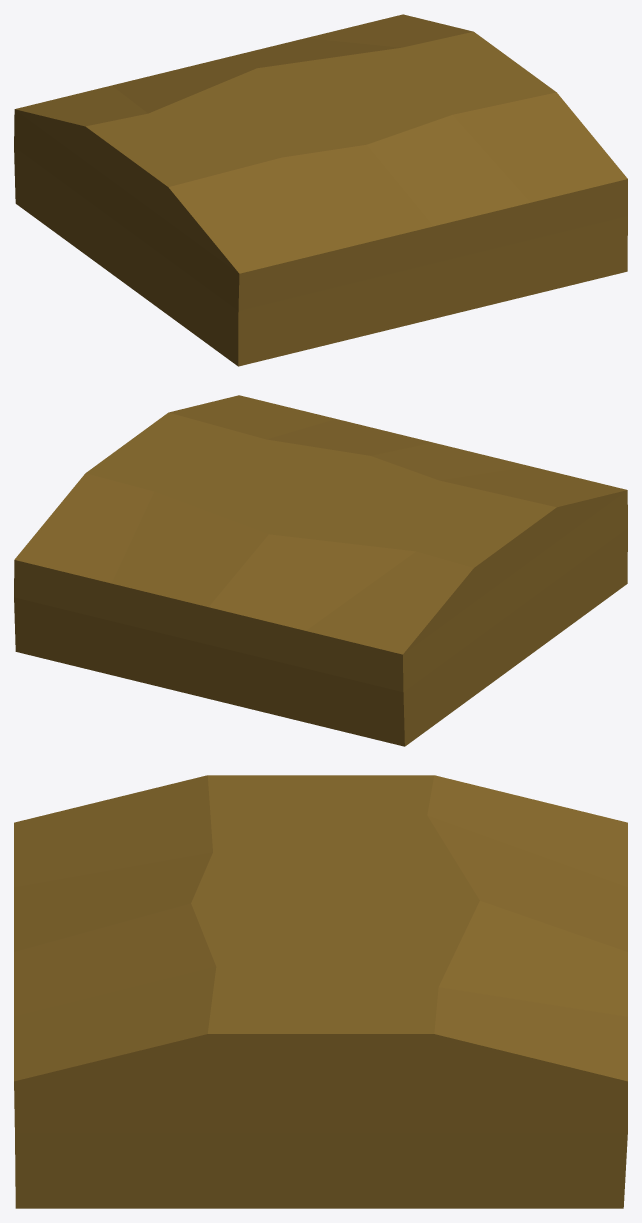
File: buried_bed3.fbx
3 renders of one model, top to bottom at view 1: azimuth 30°, elevation 25°; view 2: azimuth 150°, elevation 25°; view 3: azimuth 270°, elevation 25°, orthographic. The views are drawn at different scales.
Parts seen in each view (by area): view 1: Куб.008; view 2: Куб.008; view 3: Куб.008.
Boxes of the visible parts, x1,y1,x2,y2 form: Куб.008: (14,14,627,366); Куб.008: (14,395,627,746); Куб.008: (14,775,627,1208).
Bounding box in the file's own units: 70 × 21.96 × 70.
